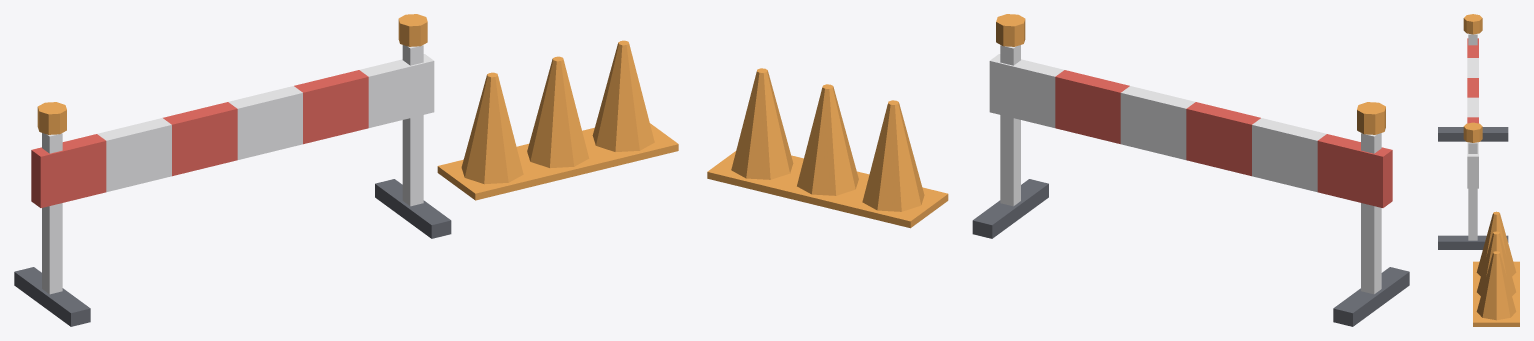
The model's file is city__barrier.fbx.
3 views of the same model, side by side, from view 1: azimuth 30°, elevation 25°; view 2: azimuth 150°, elevation 25°; view 3: azimuth 270°, elevation 25° (orthographic). The views are drawn at different scales.
Parts seen in each view (by area): view 1: city__barrier; view 2: city__barrier; view 3: city__barrier.
Part boxes in pixels (x1,y1,x2,y2): city__barrier: (14, 14, 678, 326); city__barrier: (707, 14, 1409, 326); city__barrier: (1438, 14, 1519, 326).
Bounding box in the file's own units: 3.92 × 1.14 × 0.7.
